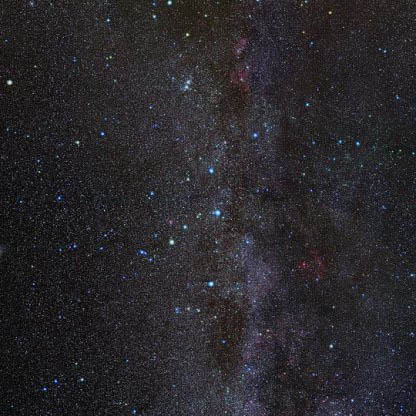Cassiopeia: (195, 269, 222, 297), (165, 223, 192, 249), (208, 200, 234, 226), (244, 126, 263, 147), (204, 164, 221, 179)
